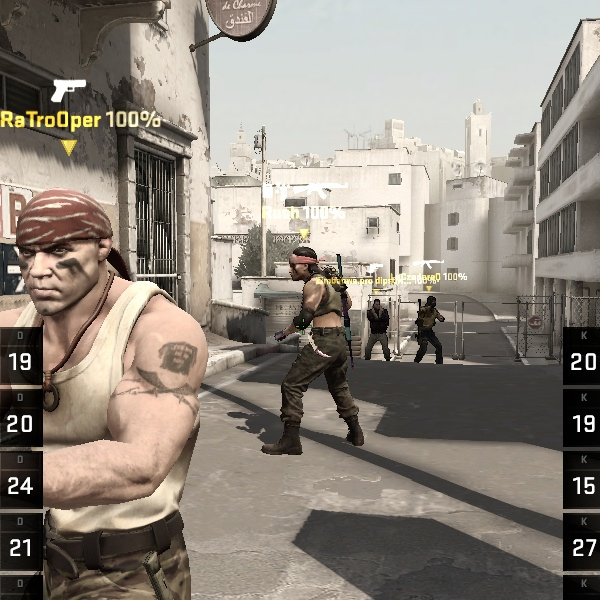t_body: (282, 246, 361, 452), (413, 295, 445, 366), (366, 299, 391, 362)
t_head: (17, 189, 112, 314), (289, 246, 318, 282), (426, 296, 437, 308), (372, 298, 381, 312)
